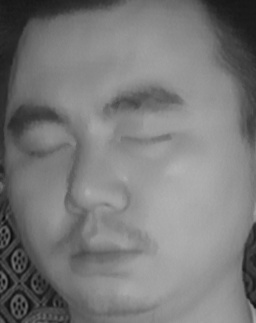blink: (117, 122, 174, 160), (17, 131, 75, 168)
mouth: (61, 224, 146, 284)
